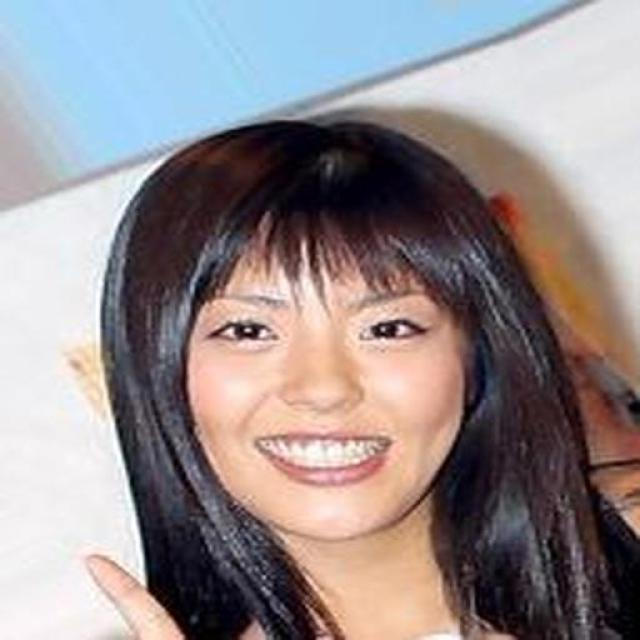bareface: (169, 130, 469, 546)
